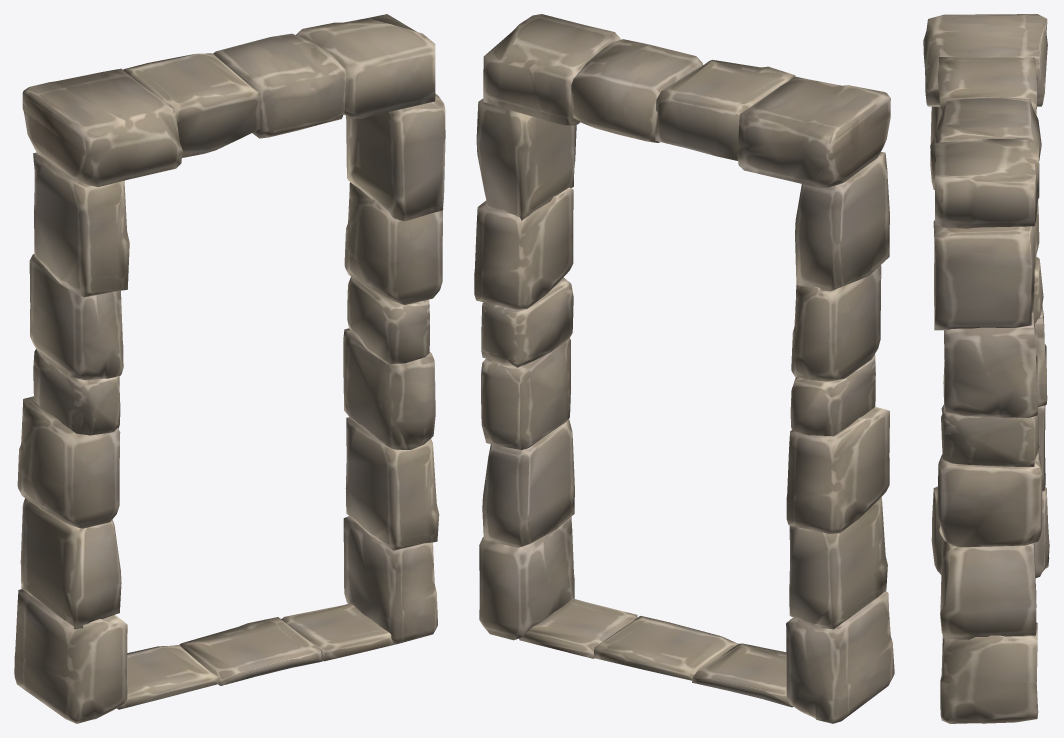
Rendered from DoorFrame_Flat_Brick.glb.
3 renders of one model, left to right at view 1: azimuth 30°, elevation 25°; view 2: azimuth 150°, elevation 25°; view 3: azimuth 270°, elevation 25°, orthographic. The views are drawn at different scales.
Visible parts, largest first — view 1: DoorFrame_Flat_Brick; view 2: DoorFrame_Flat_Brick; view 3: DoorFrame_Flat_Brick.
Part boxes in pixels (x1=…): DoorFrame_Flat_Brick: x1=14, y1=14, x2=445, y2=723; DoorFrame_Flat_Brick: x1=474, y1=14, x2=894, y2=723; DoorFrame_Flat_Brick: x1=923, y1=14, x2=1049, y2=723.
Size of the model in its own units: 1.57 by 2.38 by 0.4942.
Materials: 1 (1 with a texture image).
